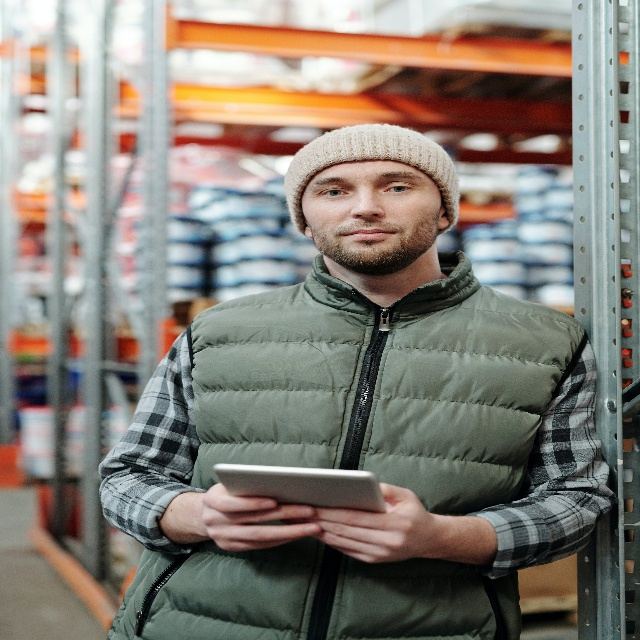Sin_guantes: (279, 483, 426, 563), (201, 482, 321, 553)
